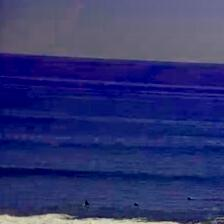surfer: (83, 201, 89, 206), (134, 202, 140, 207), (187, 197, 193, 201)
